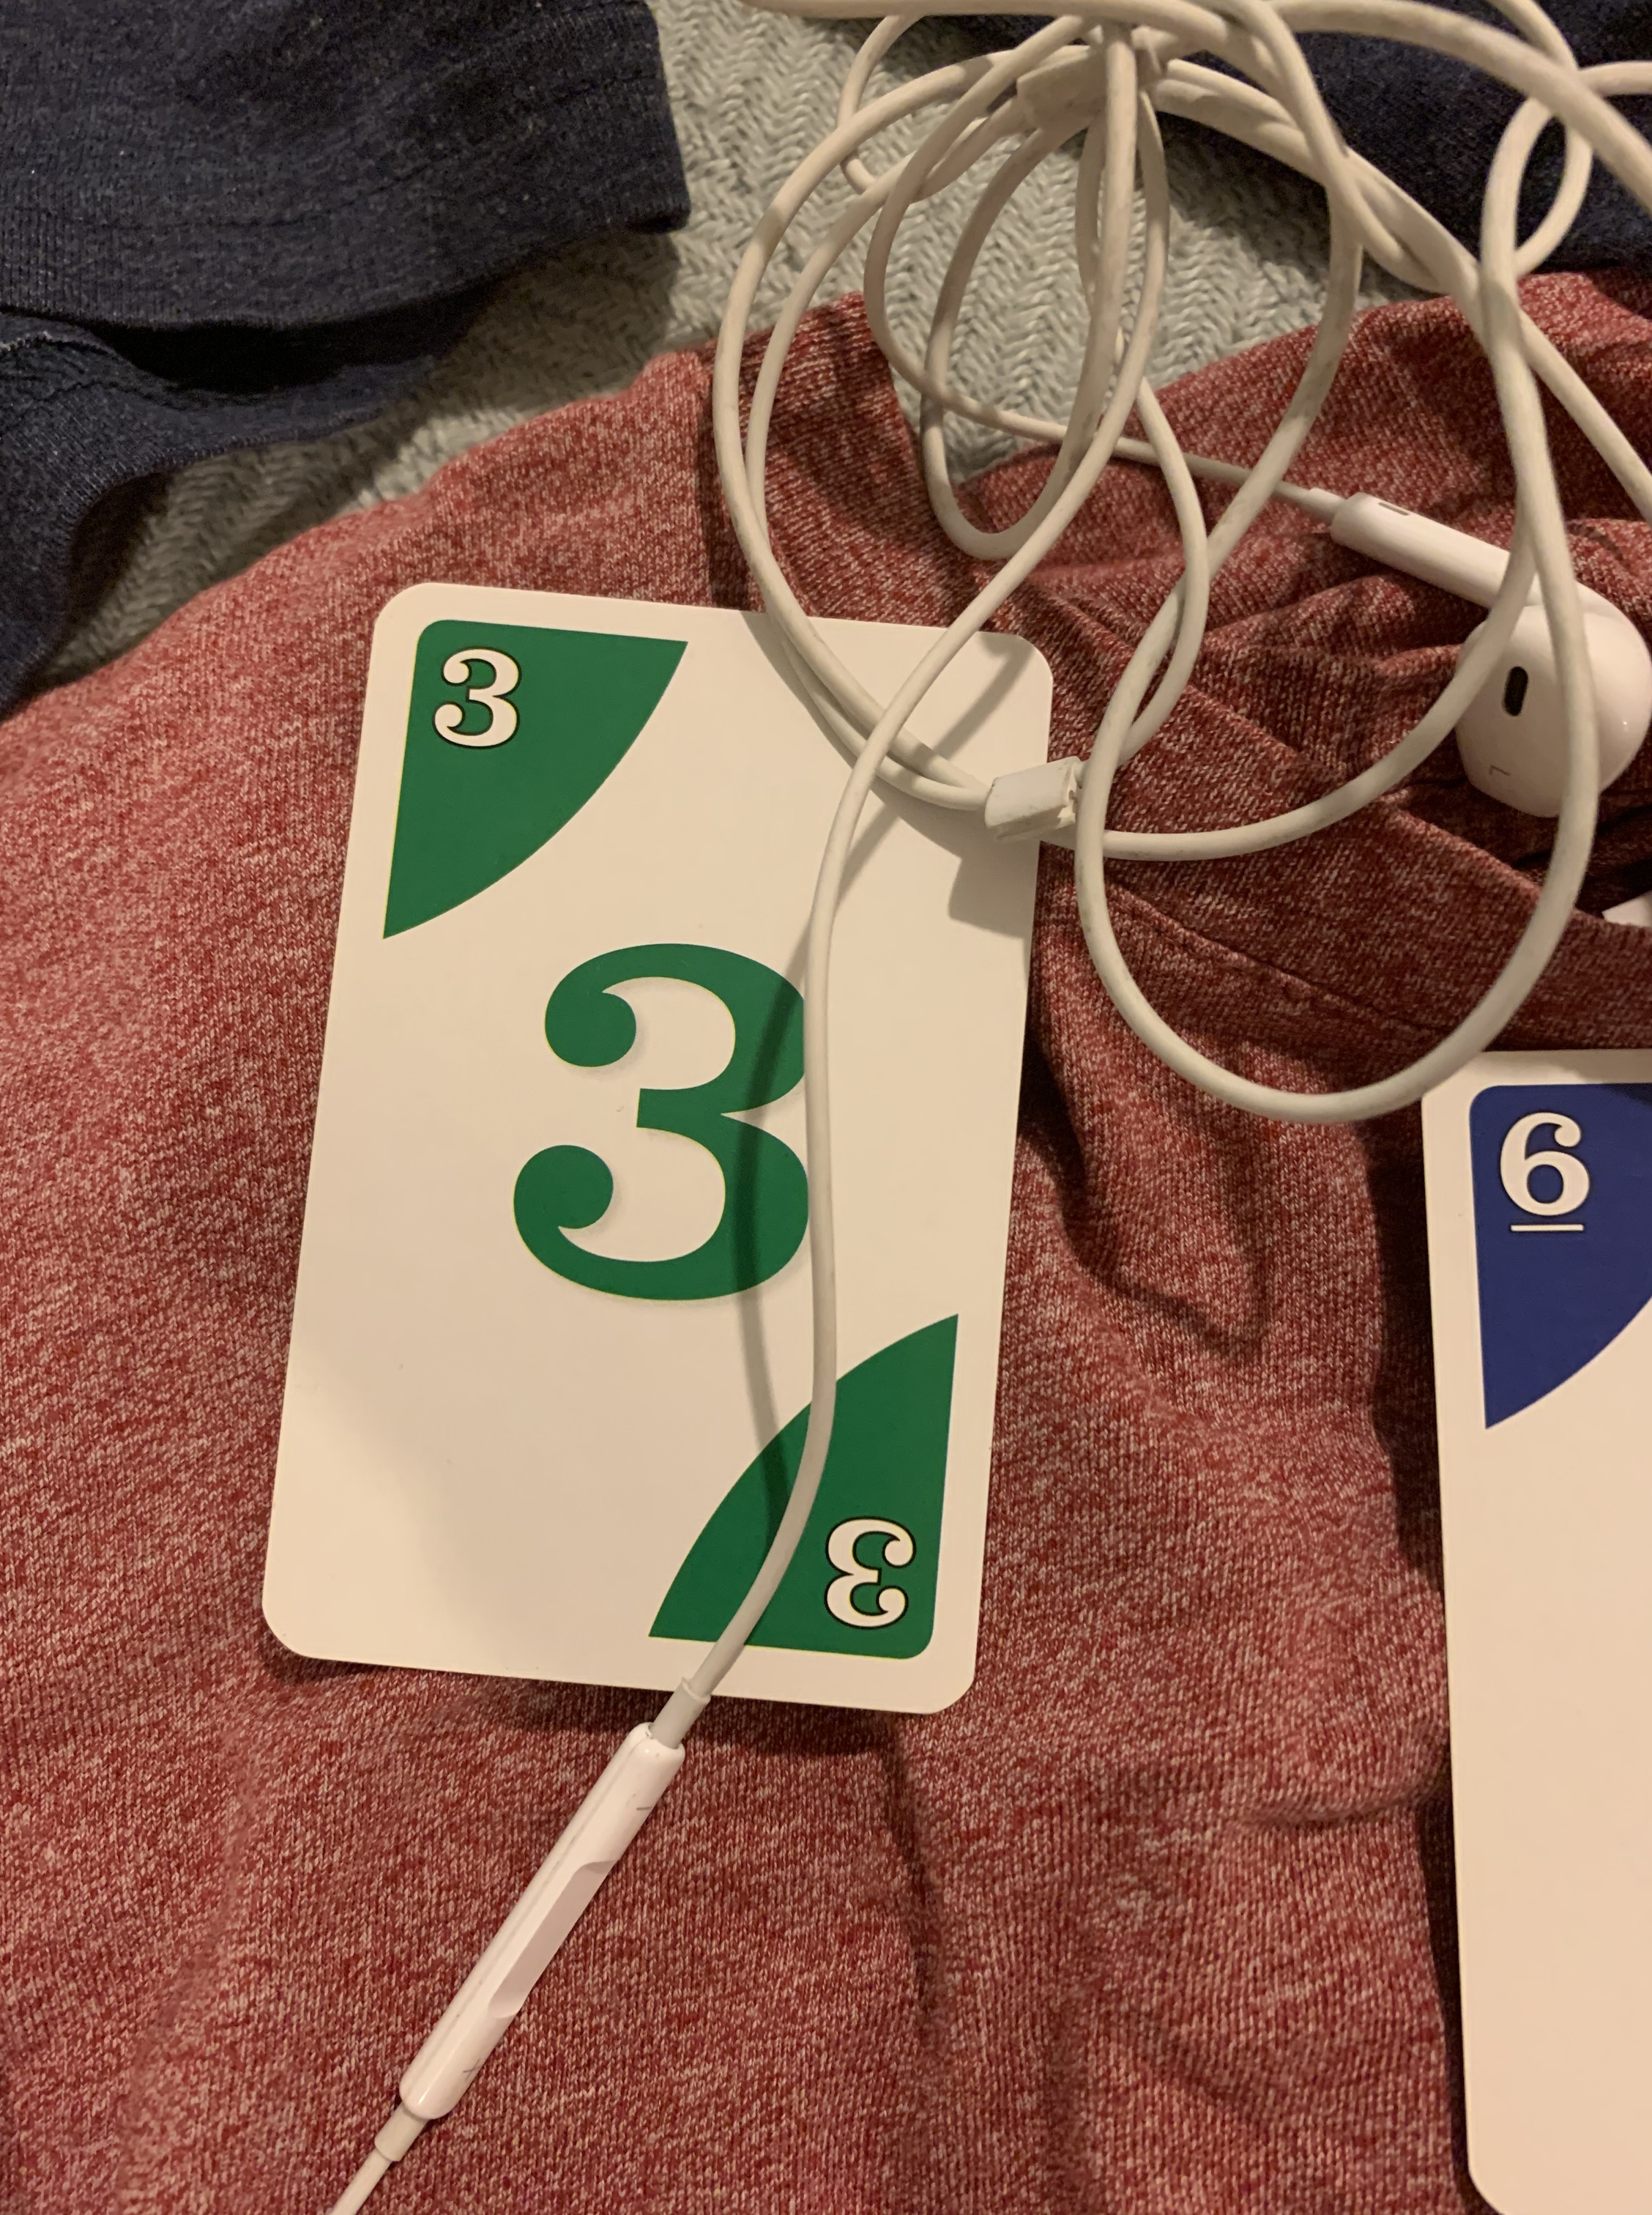three: (260, 569, 1069, 1741)
